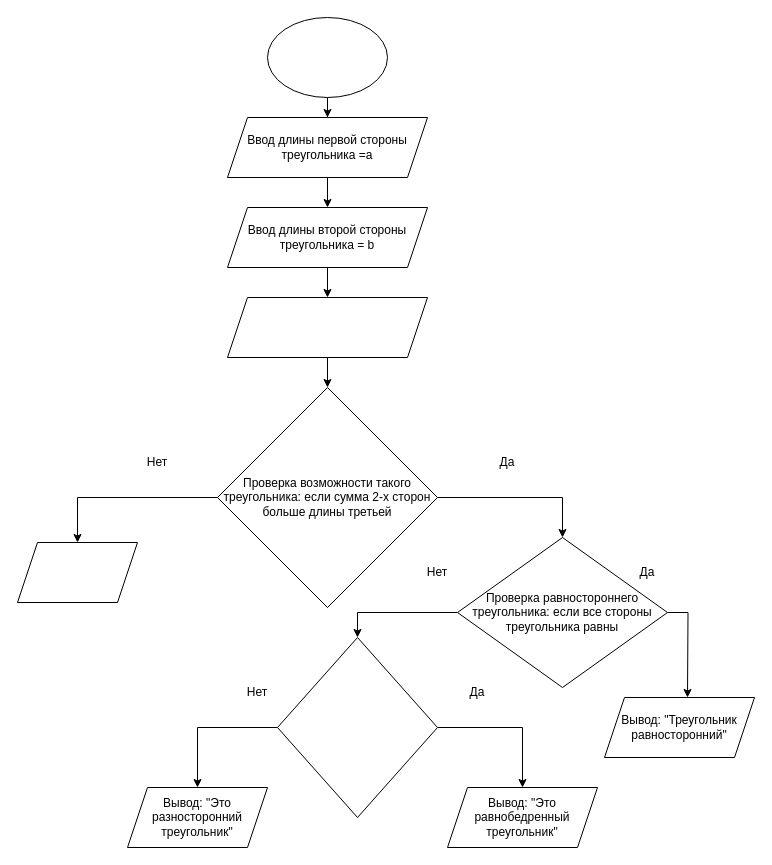
Some shapes in this 772 by 865 pixel diagram are drawn without their labels. The centre of each missing label's shape, as x and y in pixels:
Ввод длины третьей стороны треугольника = c: point (327, 327)
Вывод: "Такой треугольник невозможен": point (77, 572)
Начало: point (327, 57)
Проверка на равнобедренность: если только две стороны треугольника равны: point (357, 727)
